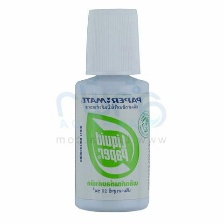correction_fluid: (70, 4, 154, 216)
